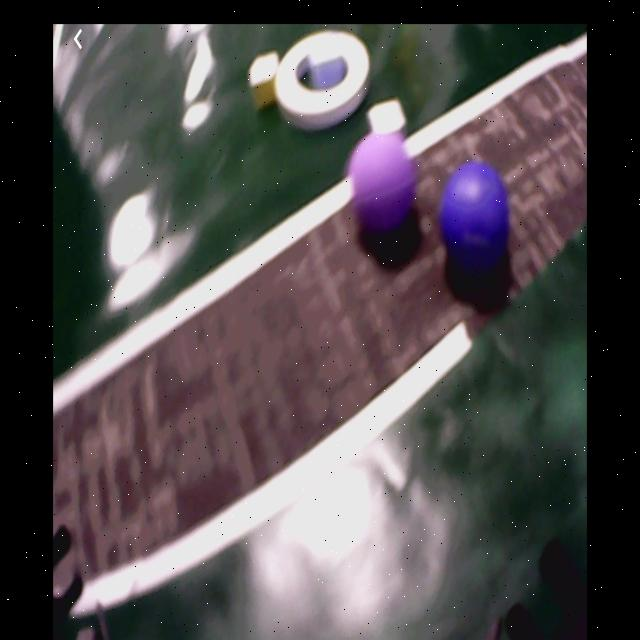ball: (442, 166, 508, 261), (350, 135, 414, 231)
